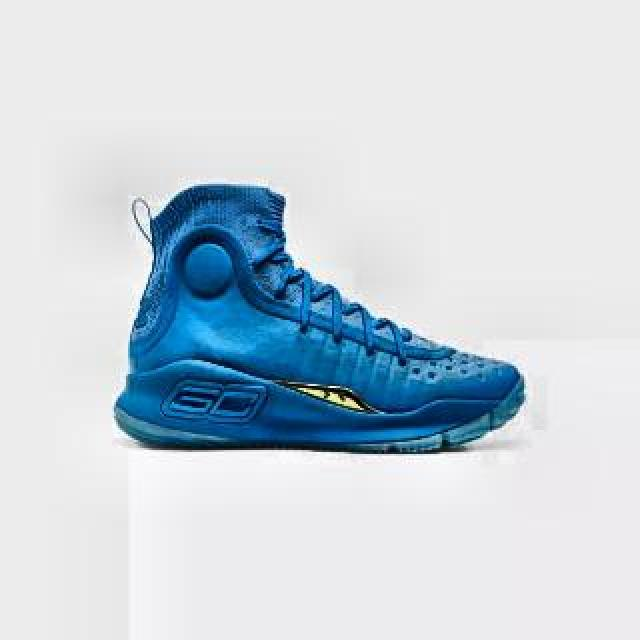shoe: (108, 181, 534, 460), (117, 184, 527, 456)
